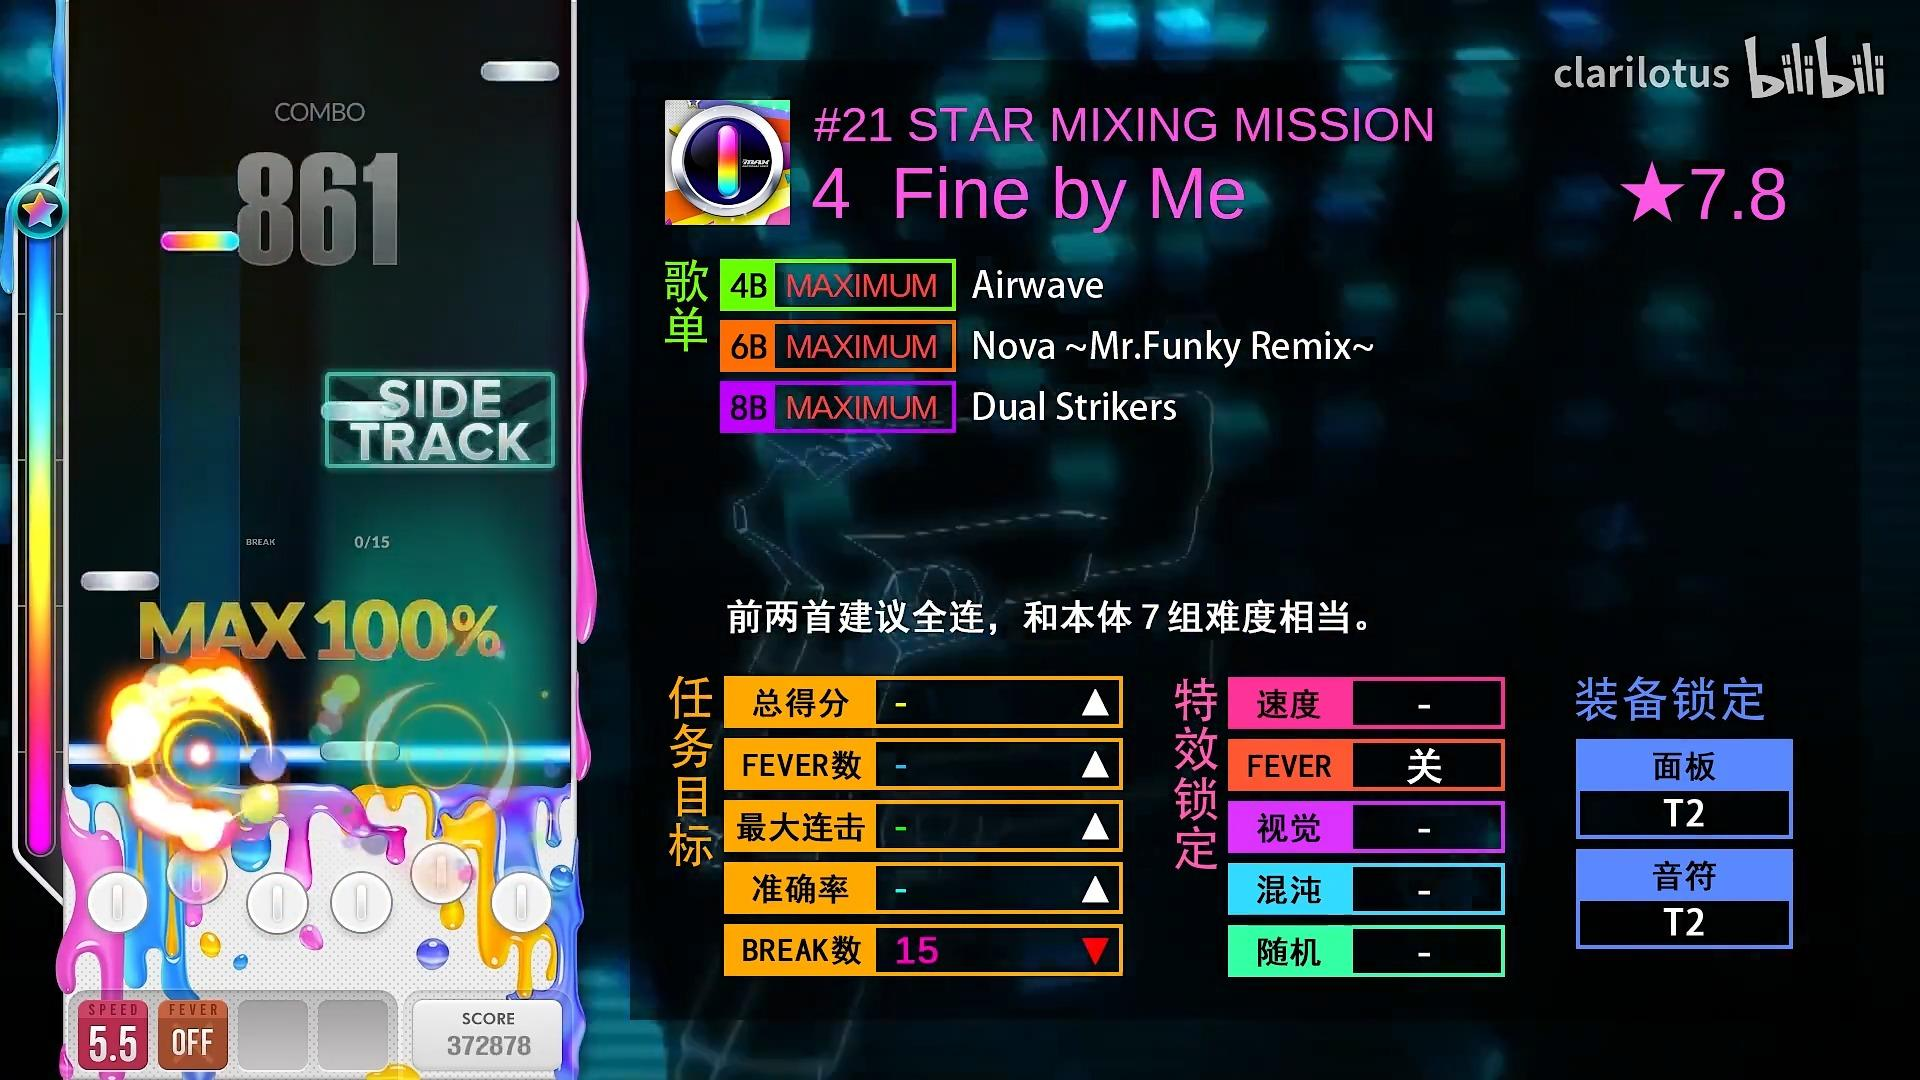note: (319, 740, 400, 764), (80, 570, 160, 592), (480, 61, 558, 83), (320, 400, 398, 422), (161, 231, 240, 252)
